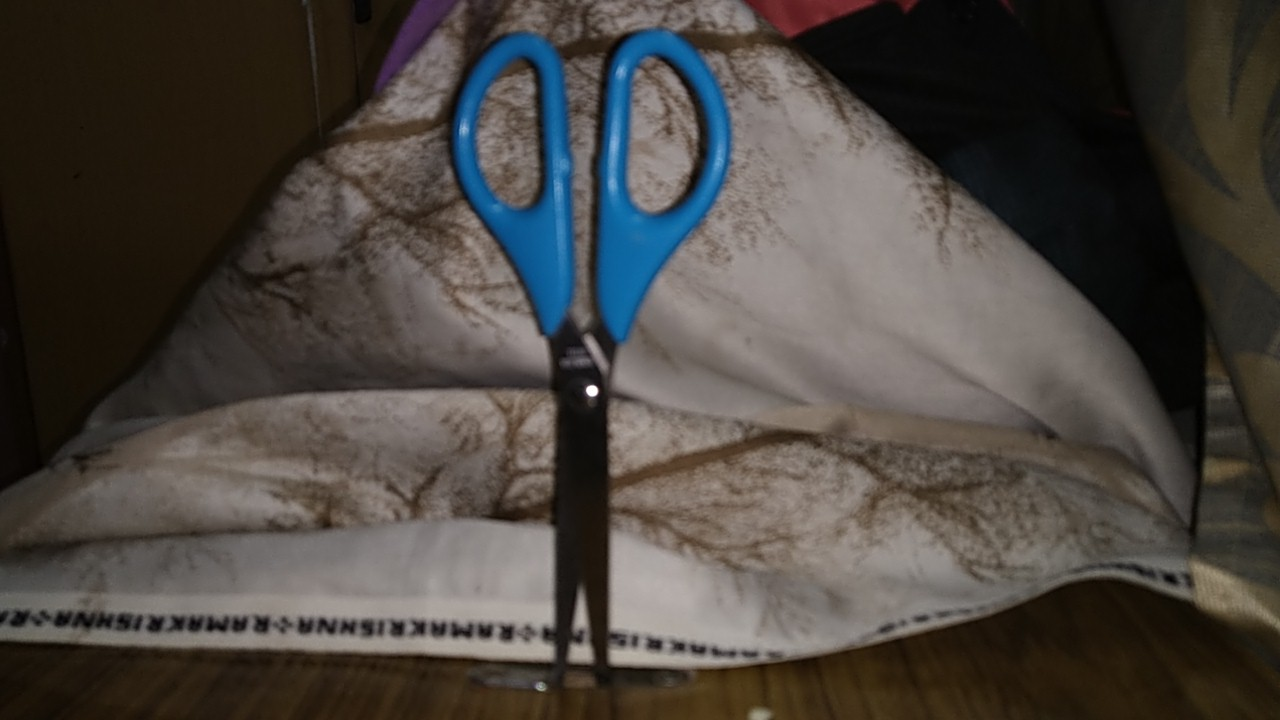scissor: (417, 24, 752, 709)
